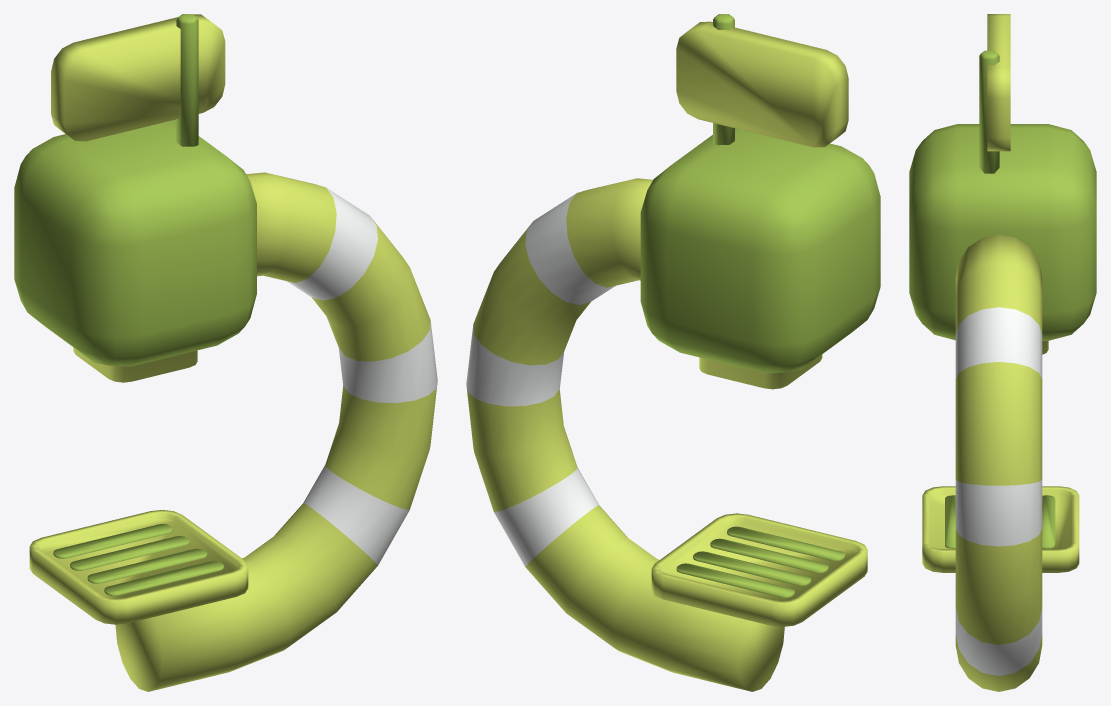
The model's file is Solid food machine3.fbx.
3 renders of one model, left to right at view 1: azimuth 30°, elevation 25°; view 2: azimuth 150°, elevation 25°; view 3: azimuth 270°, elevation 25°, orthographic. The views are drawn at different scales.
Parts seen in each view (by area): view 1: Cylinder.024, Cube.065, Cube.066, Cube.067, Cylinder.025, Cube.069, Cube.068, Cube.070, Cube.071; view 2: Cylinder.024, Cube.065, Cube.066, Cube.067, Cube.069, Cube.071, Cube.068, Cube.070, Cylinder.025; view 3: Cylinder.024, Cube.065, Cube.067, Cube.066, Cylinder.025, Cube.071, Cube.070.
Part boxes in pixels (x1,y1,x2,y2): Cylinder.024: [115, 172, 437, 691]; Cube.065: [14, 119, 256, 382]; Cube.066: [51, 14, 225, 141]; Cube.067: [29, 510, 248, 624]; Cylinder.025: [176, 14, 198, 146]; Cube.069: [87, 549, 207, 583]; Cube.068: [70, 536, 189, 570]; Cube.070: [104, 561, 223, 596]; Cube.071: [53, 523, 172, 558]; Cylinder.024: [466, 178, 784, 691]; Cube.065: [640, 128, 880, 389]; Cube.066: [676, 21, 848, 147]; Cube.067: [651, 513, 867, 626]; Cube.069: [710, 538, 828, 573]; Cube.071: [676, 563, 794, 597]; Cube.068: [693, 551, 811, 585]; Cube.070: [727, 526, 845, 561]; Cylinder.025: [713, 14, 734, 145]; Cylinder.024: [955, 234, 1042, 691]; Cube.065: [909, 124, 1096, 354]; Cube.067: [922, 486, 1079, 572]; Cube.066: [987, 14, 1010, 151]; Cylinder.025: [979, 50, 999, 173]; Cube.071: [1042, 495, 1055, 548]; Cube.070: [945, 495, 955, 548].
Bounding box in the file's own units: 119 × 198 × 55.61.
